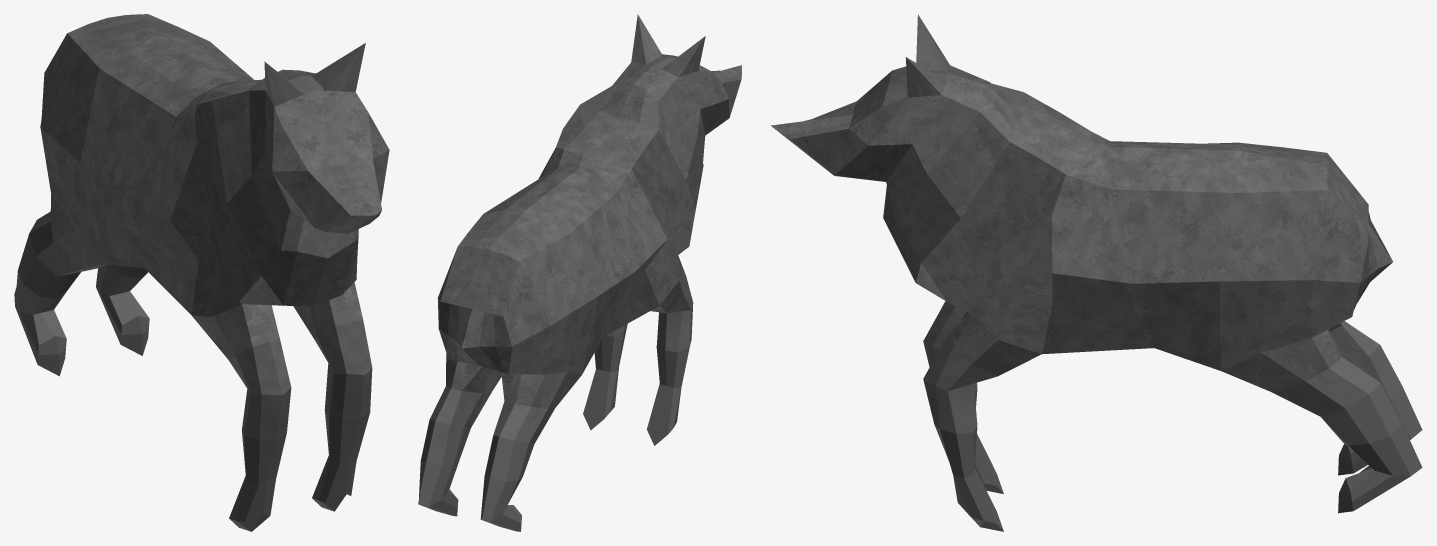
File: piesblend_000007.obj
3 renders of one model, left to right at view 1: azimuth 30°, elevation 25°; view 2: azimuth 150°, elevation 25°; view 3: azimuth 270°, elevation 25°, orthographic. The views are drawn at different scales.
Visible parts, largest first — view 1: Cube; view 2: Cube; view 3: Cube.
Boxes of the visible parts, left/top/right/bottom form: Cube: left=14, top=14, right=389, bottom=531; Cube: left=418, top=14, right=741, bottom=531; Cube: left=771, top=14, right=1422, bottom=531.
Size of the model in its own units: 2.56 by 7.3 by 9.16.
1 material, 1 textured.
